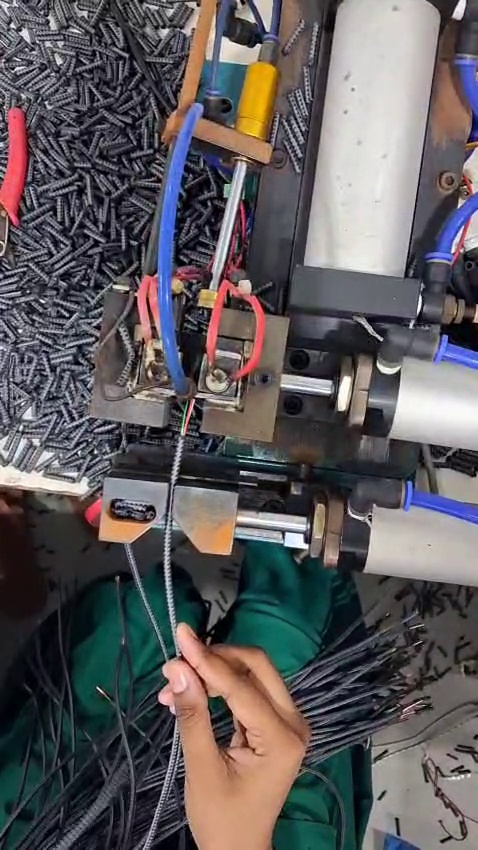machine: (72, 259, 310, 479)
peeled_wire: (154, 372, 214, 471)
